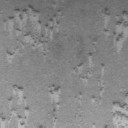oxide scale of temperature system: (2, 4, 62, 62), (72, 51, 106, 104), (0, 84, 29, 128), (103, 7, 128, 50), (112, 92, 128, 128), (48, 83, 62, 114), (78, 92, 82, 98), (38, 125, 44, 128)
